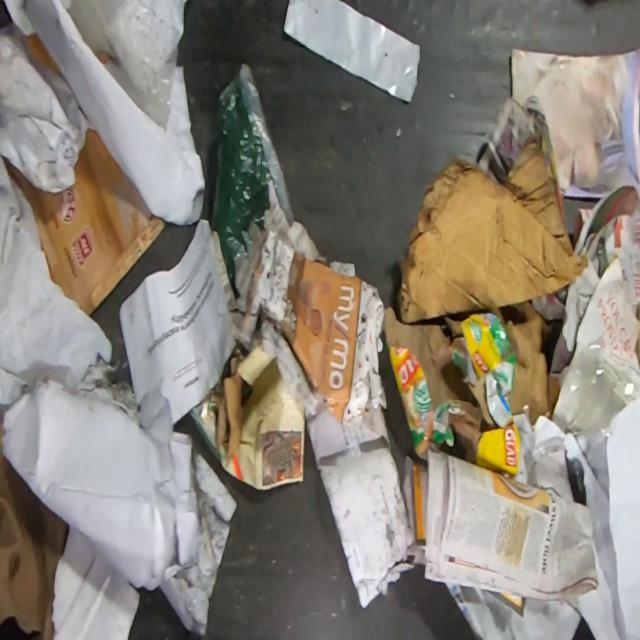cardboard: (398, 134, 590, 323), (382, 301, 560, 477), (4, 128, 165, 318)
soft_plastic: (209, 61, 297, 300), (69, 0, 188, 134), (283, 0, 421, 105), (554, 341, 640, 464)
